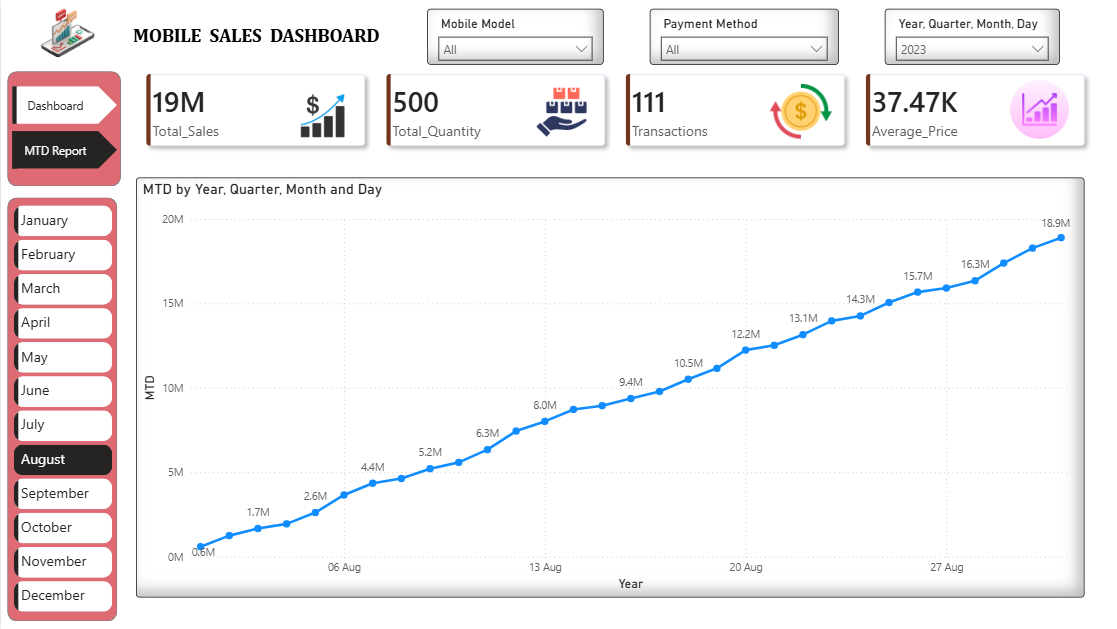

The dashboard page shown, as its layout file describes it:
{"tool":"powerbi","page":{"name":"MTD Report","canvas":[1280,720],"ordinal":1},"visuals":[{"type":"shape","box":[7.1,81.4,130,131.4],"z":0},{"type":"cardVisual","fields":{"Data":["Sales_Data.Total_Sales","Sales_Data.Total_Quantity","Sales_Data.Transactions","Sales_Data.Average_Price"]},"box":[137.1,55.7,1141.4,137.1],"z":1000},{"type":"image","box":[336.7,107.6,60.8,50.6],"z":2000},{"type":"image","box":[605.1,98.7,69.6,59.5],"z":3000},{"type":"image","box":[878.5,89.9,70.9,74.7],"z":4000},{"type":"image","box":[1148.1,91.1,77.2,67.1],"z":5000},{"type":"textbox","box":[145.7,22.9,307.1,48.6],"z":6000},{"type":"image","box":[7.1,2.9,137.1,71.4],"z":7000},{"type":"slicer","fields":{"Values":["Sales_Data.Mobile Model"]},"box":[487.1,10,201.4,64.3],"z":8000},{"type":"slicer","fields":{"Values":["Sales_Data.Payment Method"]},"box":[741.4,10,215.7,64.3],"z":9000},{"type":"slicer","fields":{"Values":["Custom_Calender.Date.Variation.Date Hierarchy.Year","Custom_Calender.Date.Variation.Date Hierarchy.Quarter","Custom_Calender.Date.Variation.Date Hierarchy.Month","Custom_Calender.Date.Variation.Date Hierarchy.Day"]},"box":[1010,10,200,64.3],"z":10000},{"type":"lineChart","fields":{"Y":["Sales_Data.MTD"],"Category":["Custom_Calender.Date.Variation.Date Hierarchy.Year","Custom_Calender.Date.Variation.Date Hierarchy.Quarter","Custom_Calender.Date.Variation.Date Hierarchy.Month","Custom_Calender.Date.Variation.Date Hierarchy.Day"]},"box":[154.3,202.9,1084.3,480],"z":11000},{"type":"shape","box":[7.1,225.7,125.7,484.3],"z":12000},{"type":"advancedSlicerVisual","fields":{"Values":["Custom_Calender.Date.Variation.Date Hierarchy.Month"]},"box":[10,230,122.9,477.1],"z":13000},{"type":"pageNavigator","box":[12.9,98.6,120,95.7],"z":13001}]}

Visuals, with their boxes in screenshot pixels (x1, y1, x2, y2), scaled from the page's 1280x720 canvas onto the 1117x629 screenshot:
shape: crop(6, 71, 120, 186)
cardVisual - Sales_Data.Total_Sales x Sales_Data.Total_Quantity: crop(120, 49, 1116, 168)
image: crop(294, 94, 347, 138)
image: crop(528, 86, 589, 138)
image: crop(767, 79, 828, 144)
image: crop(1002, 80, 1069, 138)
textbox: crop(127, 20, 395, 62)
image: crop(6, 3, 126, 65)
slicer - Sales_Data.Mobile Model: crop(425, 9, 601, 65)
slicer - Sales_Data.Payment Method: crop(647, 9, 835, 65)
slicer - Custom_Calender.Date.Variation.Date Hierarchy.Year x Custom_Calender.Date.Variation.Date Hierarchy.Quarter: crop(881, 9, 1056, 65)
lineChart - Sales_Data.MTD x Custom_Calender.Date.Variation.Date Hierarchy.Year: crop(135, 177, 1081, 597)
shape: crop(6, 197, 116, 620)
advancedSlicerVisual - Custom_Calender.Date.Variation.Date Hierarchy.Month: crop(9, 201, 116, 618)
pageNavigator: crop(11, 86, 116, 170)
